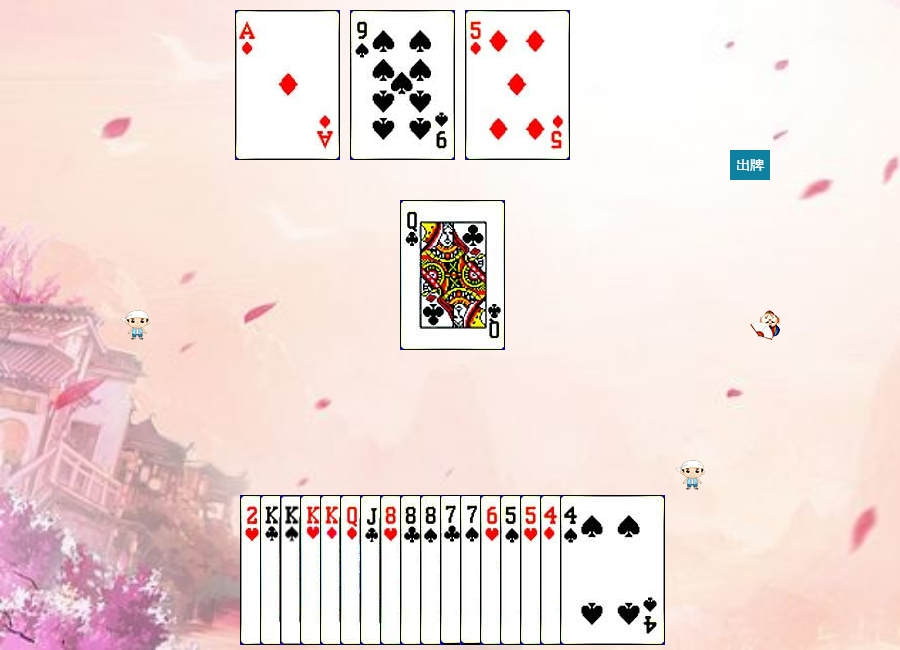11~2: (360, 495, 465, 645)
12~1: (340, 495, 445, 645)
12~2: (400, 200, 505, 350)
13~1: (320, 495, 425, 645)
13~2: (260, 495, 365, 645)
13~3: (300, 495, 405, 645)
13~4: (280, 495, 385, 645)
14~1: (235, 10, 340, 160)
15~3: (240, 495, 345, 645)
4~1: (540, 495, 645, 645)
4~4: (560, 495, 665, 645)
5~1: (465, 10, 570, 160)
5~3: (520, 495, 625, 645)
5~4: (500, 495, 605, 645)
6~3: (480, 495, 585, 645)
7~2: (440, 495, 545, 645)
7~4: (460, 495, 565, 645)
8~2: (400, 495, 505, 645)
8~3: (380, 495, 485, 645)
8~4: (420, 495, 525, 645)
9~4: (350, 10, 455, 160)
